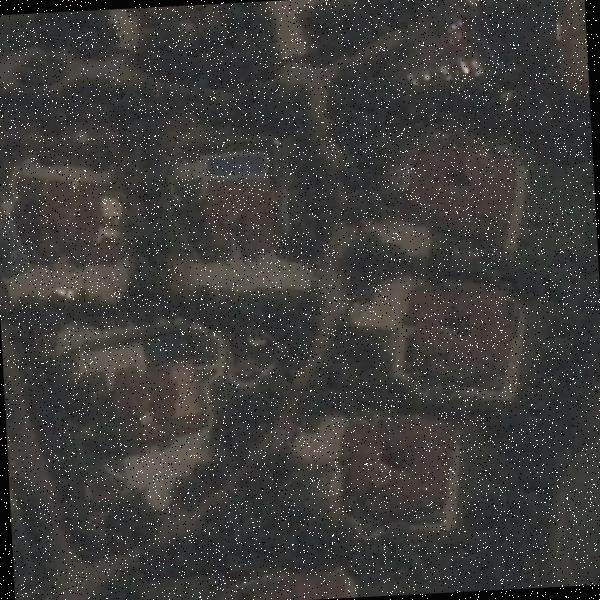Buildings: (338, 418, 464, 514), (404, 291, 516, 375), (19, 179, 122, 256), (104, 366, 207, 442), (413, 153, 521, 224), (194, 172, 287, 241), (243, 556, 356, 600)
